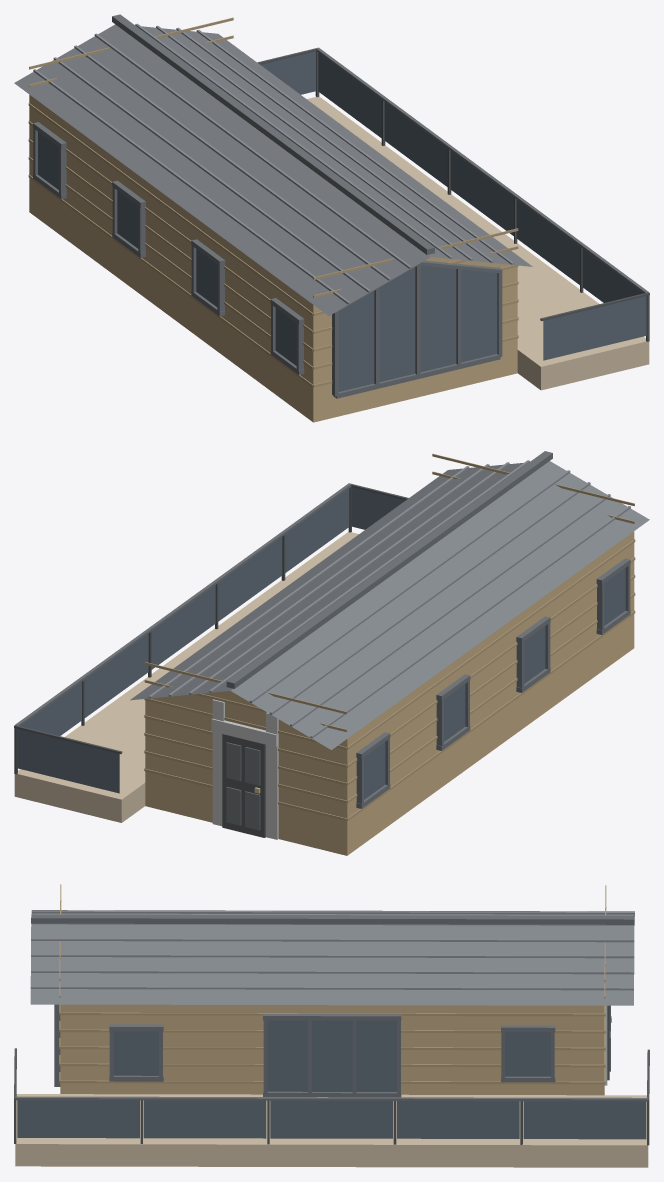
The picture shows the model from 3 angles, top to bottom: view 1: azimuth 30°, elevation 25°; view 2: azimuth 150°, elevation 25°; view 3: azimuth 270°, elevation 25°; orthographic projection. The views are drawn at different scales.
Parts seen in each view (by area): view 1: slate, door_wood, slate_dk, window_glass_013, slate_lt, larch, door_wood_p, window_glass_006, window_glass_004, window_glass_005, window_glass_002, window_glass_003 (+7 smaller); view 2: slate, door_wood, slate_lt, slate_dk, larch, door_wood_p, window_glass_007, stone_band, window_glass_001, window_glass_002, window_glass_004, window_glass_003 (+9 smaller); view 3: slate, door_wood, larch, slate_dk, slate_lt, door_wood_p, window_glass_002, window_glass_005, window_glass_001, window_glass_003, window_glass_004, window_glass_009 (+5 smaller).
Boxes of the visible parts, bbox=[...] form: slate: bbox=[14, 24, 532, 315]; door_wood: bbox=[29, 94, 517, 422]; slate_dk: bbox=[33, 14, 649, 398]; window_glass_013: bbox=[338, 265, 497, 391]; slate_lt: bbox=[33, 23, 513, 304]; larch: bbox=[307, 96, 649, 390]; door_wood_p: bbox=[28, 17, 518, 387]; window_glass_006: bbox=[543, 296, 646, 360]; window_glass_004: bbox=[384, 102, 447, 186]; window_glass_005: bbox=[318, 53, 381, 137]; window_glass_002: bbox=[516, 200, 579, 284]; window_glass_003: bbox=[450, 151, 513, 235]; slate: bbox=[130, 461, 649, 749]; door_wood: bbox=[145, 531, 634, 855]; slate_lt: bbox=[148, 460, 630, 738]; slate_dk: bbox=[14, 451, 630, 808]; larch: bbox=[14, 532, 358, 822]; door_wood_p: bbox=[144, 454, 635, 820]; window_glass_007: bbox=[17, 728, 119, 793]; stone_band: bbox=[211, 699, 278, 839]; window_glass_001: bbox=[285, 488, 349, 572]; window_glass_002: bbox=[218, 537, 282, 621]; window_glass_004: bbox=[84, 633, 148, 717]; window_glass_003: bbox=[151, 585, 215, 669]; slate: bbox=[30, 910, 634, 1005]; door_wood: bbox=[60, 910, 604, 1095]; larch: bbox=[15, 1094, 648, 1167]; slate_dk: bbox=[15, 914, 648, 1101]; slate_lt: bbox=[30, 910, 634, 990]; door_wood_p: bbox=[59, 884, 606, 1084]; window_glass_002: bbox=[143, 1100, 266, 1138]; window_glass_005: bbox=[523, 1101, 646, 1139]; window_glass_001: bbox=[17, 1100, 139, 1138]; window_glass_003: bbox=[270, 1100, 392, 1138]; window_glass_004: bbox=[397, 1101, 519, 1138]; window_glass_009: bbox=[312, 1020, 352, 1091].
Size of the model in its own units: 7.1 by 3.42 by 12.88.
